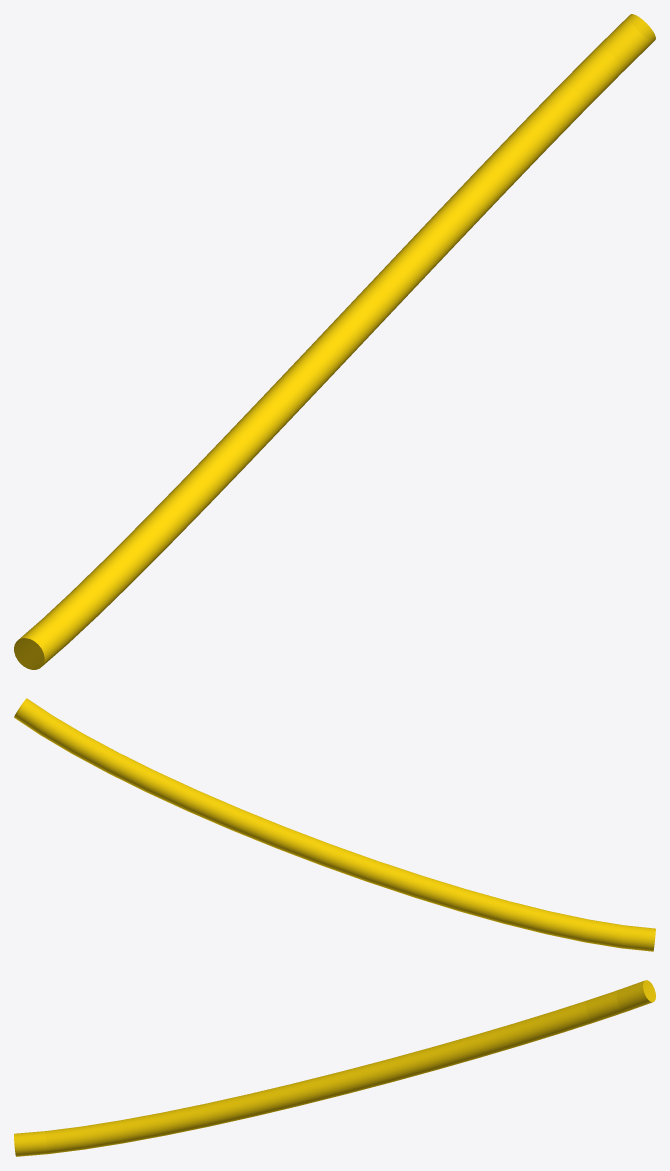
File: Event_421115418_track_120.fbx
3 views of the same model, one above another, from view 1: azimuth 30°, elevation 25°; view 2: azimuth 150°, elevation 25°; view 3: azimuth 330°, elevation 25° (orthographic). The views are drawn at different scales.
Visible parts, largest first — view 1: Model; view 2: Model; view 3: Model.
Boxes of the visible parts, left/top/right/bottom form: Model: left=14, top=14, right=655, bottom=669; Model: left=14, top=698, right=655, bottom=951; Model: left=14, top=980, right=655, bottom=1156.
Size of the model in its own units: 1.04 by 0.4035 by 0.4445.
